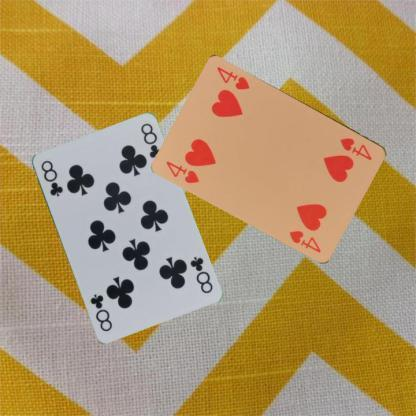4h: (337, 134, 374, 162), (164, 158, 202, 184)
8c: (187, 254, 214, 294), (38, 157, 64, 198)
